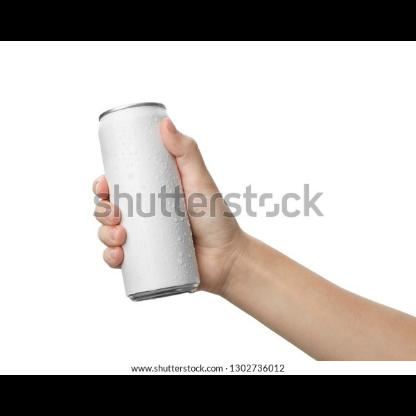Tin_Can: (98, 100, 202, 304)
